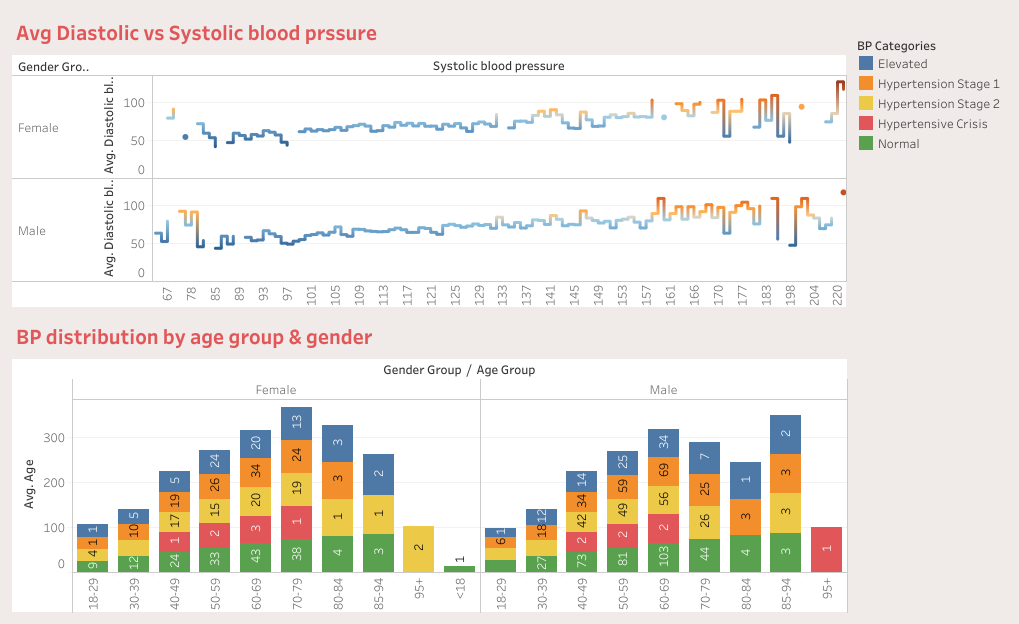

Layout of this report page (visuals, bound fields, positions):
{"tool":"tableau","page":{"name":"Health Dashboard 2","canvas":[1020,625],"ordinal":0},"visuals":[{"type":"worksheet","title":"Avg Diastolic vs Systolic blood prssure","mark":"Line","rows":["Calculation_1055581010653574","Diastolic blood pressure"],"cols":["Systolic blood pressure"],"box":[8,8,844,304.5]},{"type":"legend","title":"Avg Diastolic vs Systolic blood prssure","param":"[federated.0to2b4c1tog8hs1g0w23y0us2z2o].[avg:Diastolic blood pressure:qk]","box":[852,8,160,68]},{"type":"legend","title":"BP distribution by age group & gender","param":"[federated.0to2b4c1tog8hs1g0w23y0us2z2o].[none:Calculation_1125951905398858:nk]","box":[852,76,160,127]},{"type":"worksheet","title":"BP distribution by age group & gender","mark":"Bar","rows":["Age"],"cols":["Calculation_1055581010653574","Calculation_1125951921586262"],"box":[8,312.5,844,304.5]}]}

Visuals, with their boxes in screenshot pixels (x1, y1, x2, y2), scaled from the page's 1020x625 canvas onto the 1019x624 screenshot:
"Avg Diastolic vs Systolic blood prssure" worksheet (Line marks): detection(8, 8, 851, 312)
"Avg Diastolic vs Systolic blood prssure" legend: detection(851, 8, 1011, 76)
"BP distribution by age group & gender" legend: detection(851, 76, 1011, 203)
"BP distribution by age group & gender" worksheet (Bar marks): detection(8, 312, 851, 616)
